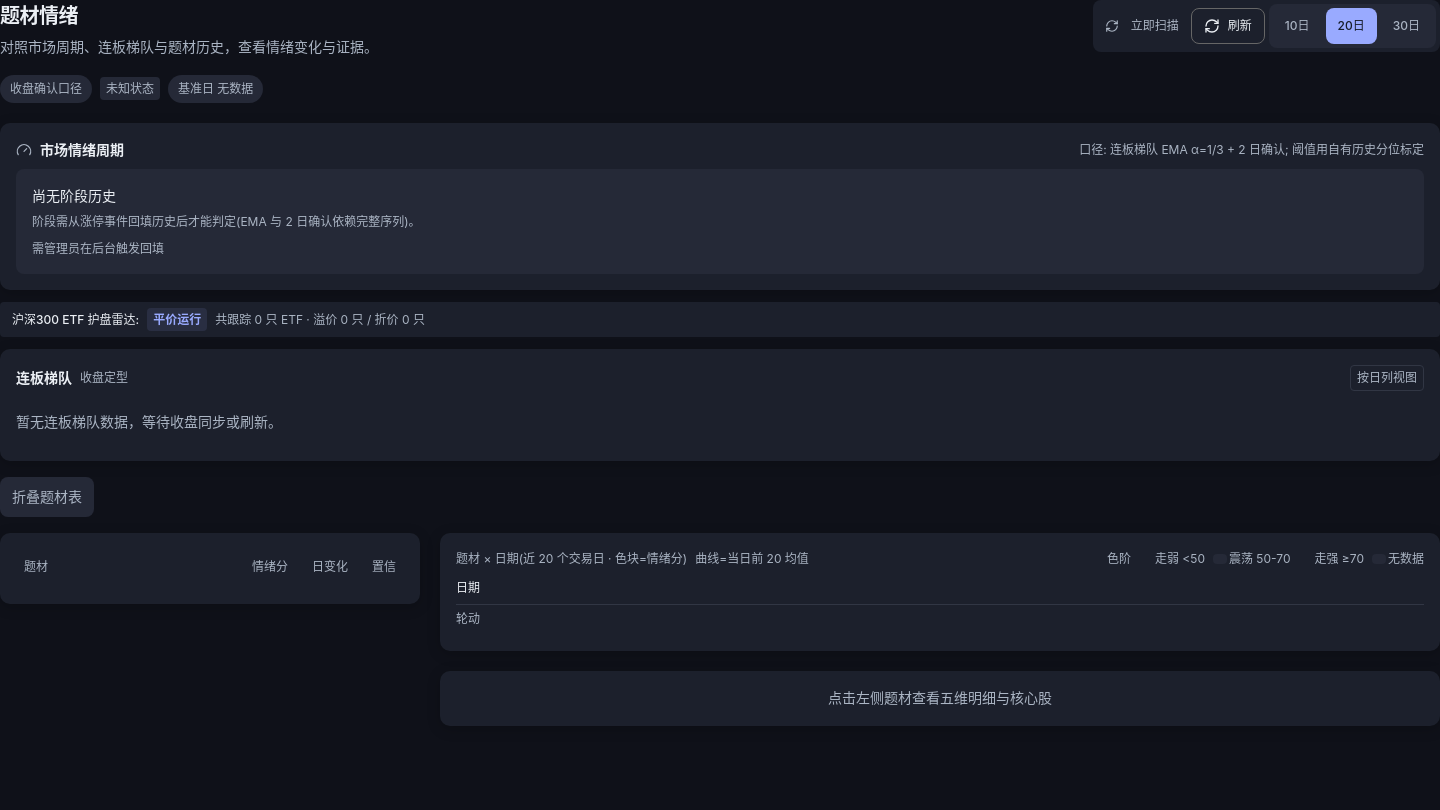
Scenario: /theme-mood 竞态守卫与时间标注 › 被新请求取代的旧响应不落地(慢响应不覆盖新数据)
Click the button "10日" at (1297, 26), box [1273,8,1322,44]
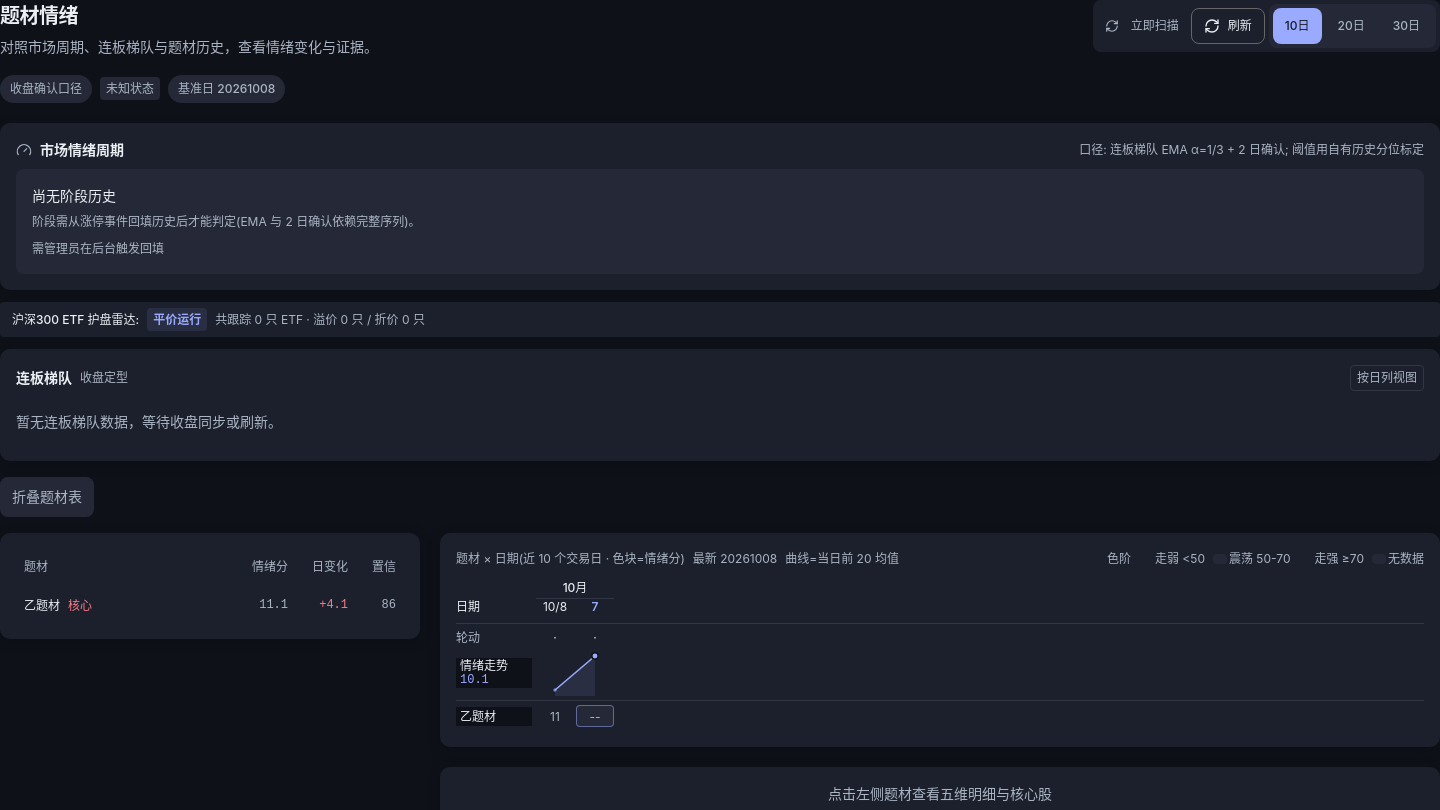
Check: the text "乙题材" is shown, box [24,598,60,613]
